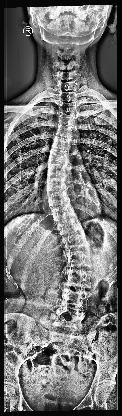Vertebrae: (58, 289, 96, 307), (52, 310, 88, 326), (63, 269, 95, 287), (60, 236, 94, 250), (63, 252, 96, 266), (44, 207, 82, 219), (40, 162, 72, 176), (51, 222, 88, 234), (44, 148, 74, 162), (44, 192, 74, 204), (49, 136, 79, 148), (41, 178, 69, 190), (55, 112, 82, 124), (55, 125, 81, 137), (57, 101, 80, 113), (59, 92, 81, 102)
